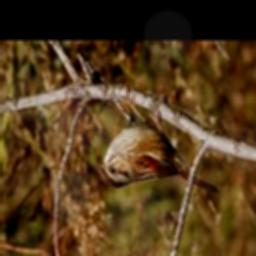Sparrow: (96, 88, 218, 192)
